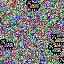sheep: (26, 0, 41, 12), (0, 39, 15, 51), (48, 44, 62, 56), (51, 34, 64, 45)
